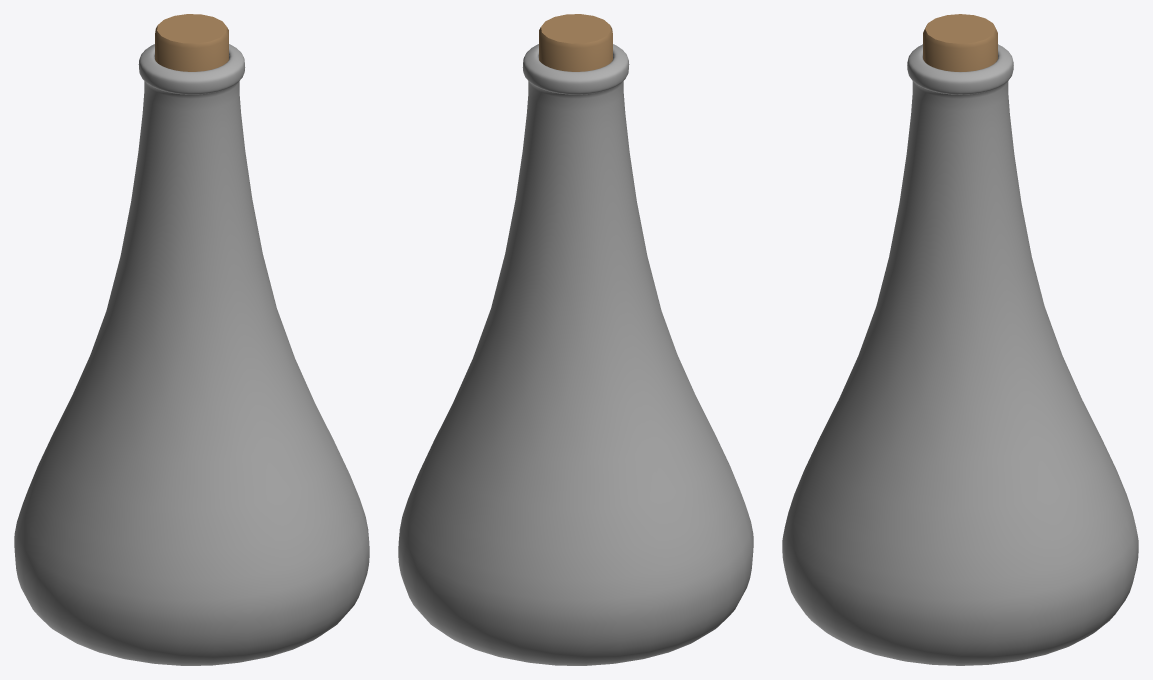
Rendered from Potion_A.fbx.
3 renders of one model, left to right at view 1: azimuth 30°, elevation 25°; view 2: azimuth 150°, elevation 25°; view 3: azimuth 270°, elevation 25°, orthographic.
Visible parts, largest first — view 1: Potion_A_Liquid, Cork; view 2: Potion_A_Liquid, Cork; view 3: Potion_A_Liquid, Cork.
Boxes of the visible parts, x1,y1,x2,y2 form: Potion_A_Liquid: (14, 44, 369, 665); Cork: (155, 14, 228, 71); Potion_A_Liquid: (398, 44, 753, 665); Cork: (539, 14, 612, 71); Potion_A_Liquid: (782, 44, 1138, 665); Cork: (923, 14, 997, 71).
Size of the model in its own units: 0.1315 by 0.2383 by 0.1315.
